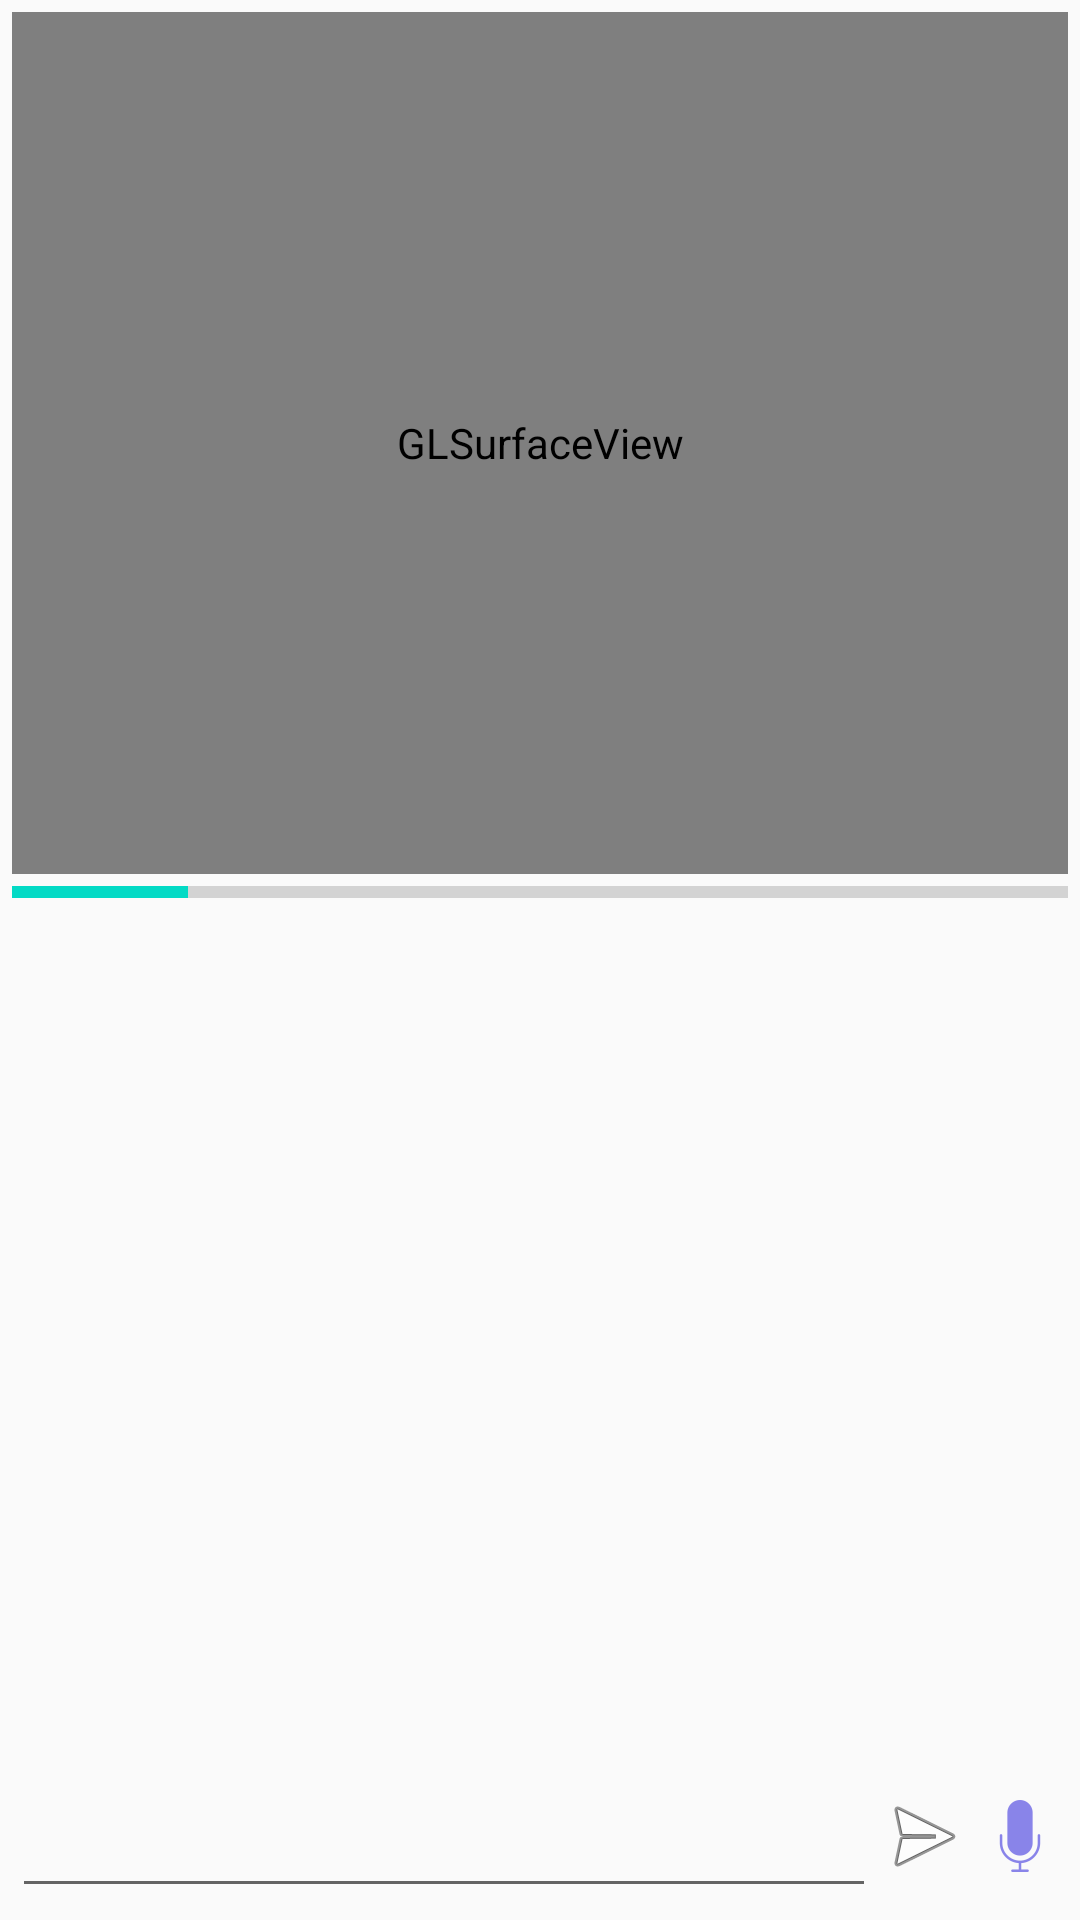

Locate icon controls on the screen. Image size 1080x1920, boxes as detection(x1, y1, x2, y2).
microphone: detection(1000, 1800, 1040, 1872)
send: detection(894, 1806, 956, 1867)
